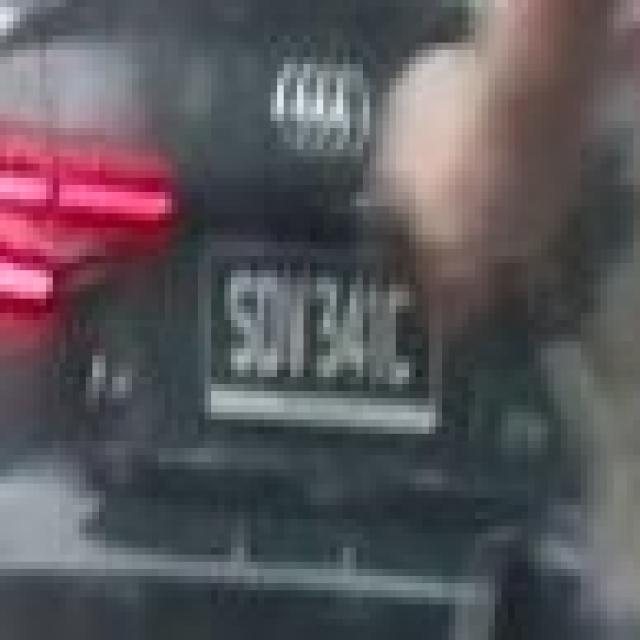1: (365, 272, 386, 386)
3: (310, 275, 341, 379)
4: (338, 274, 370, 384)
C: (381, 278, 419, 392)
D: (252, 270, 280, 379)
S: (224, 270, 256, 376)
V: (281, 268, 313, 378)
